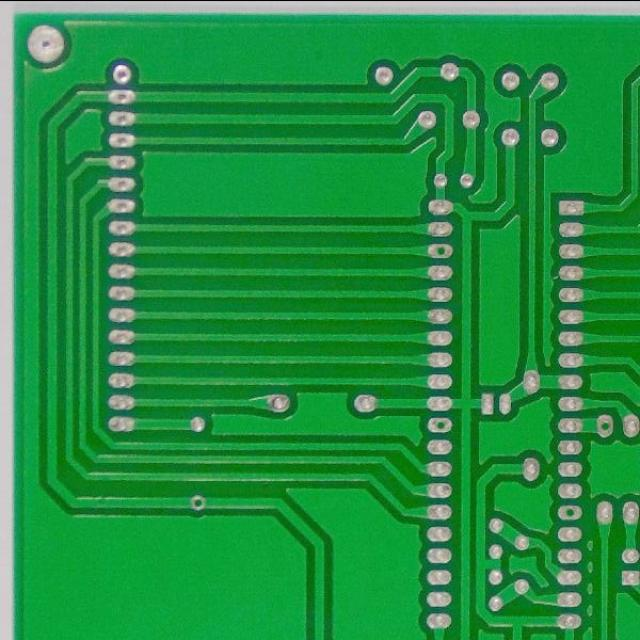missing_hole: (426, 239, 453, 261), (560, 502, 582, 523), (596, 415, 617, 436), (429, 415, 451, 434), (188, 493, 208, 511)
